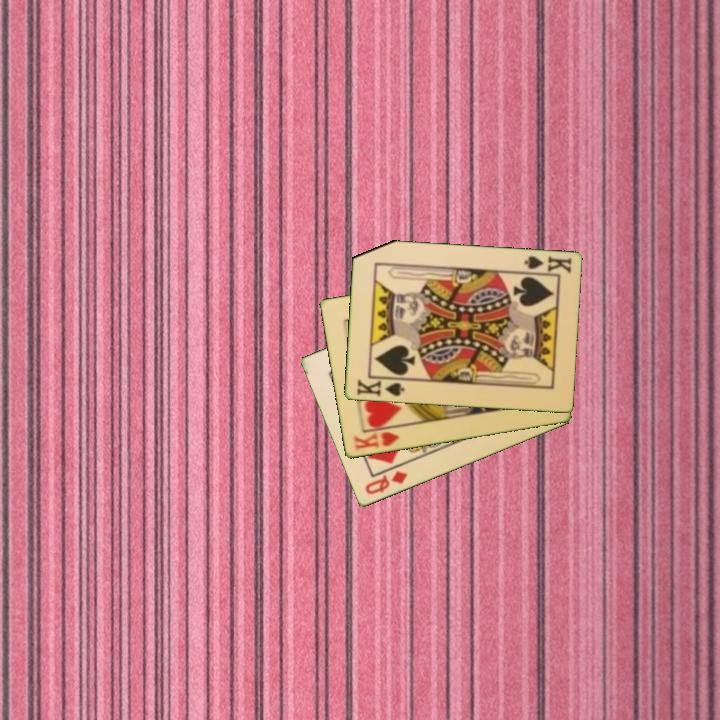Kh: (351, 423, 404, 454)
Ks: (353, 374, 407, 399), (518, 253, 574, 277)
Qd: (361, 468, 410, 498)
